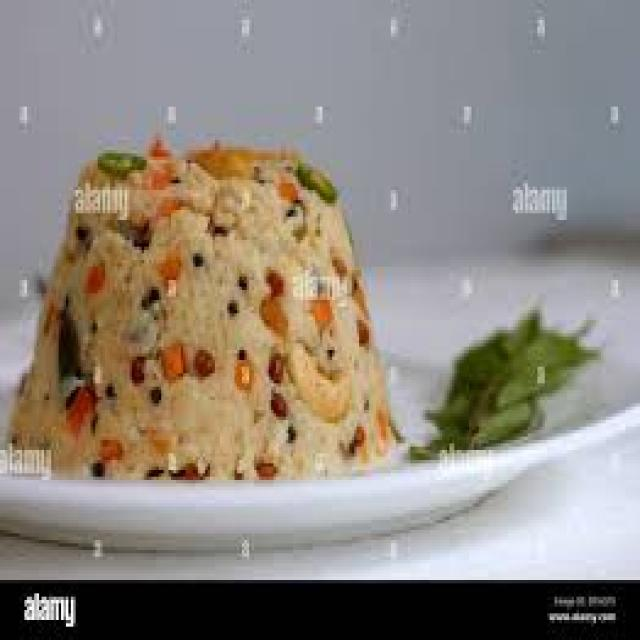UPMA: (27, 150, 393, 480)
